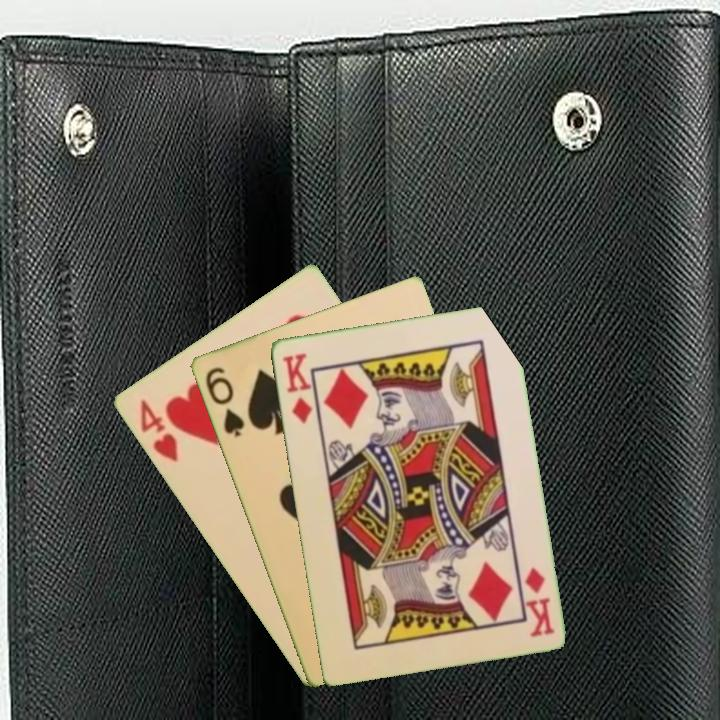4h: (135, 395, 180, 465)
6s: (201, 363, 247, 440)
Kd: (521, 563, 557, 639), (279, 349, 314, 427)
